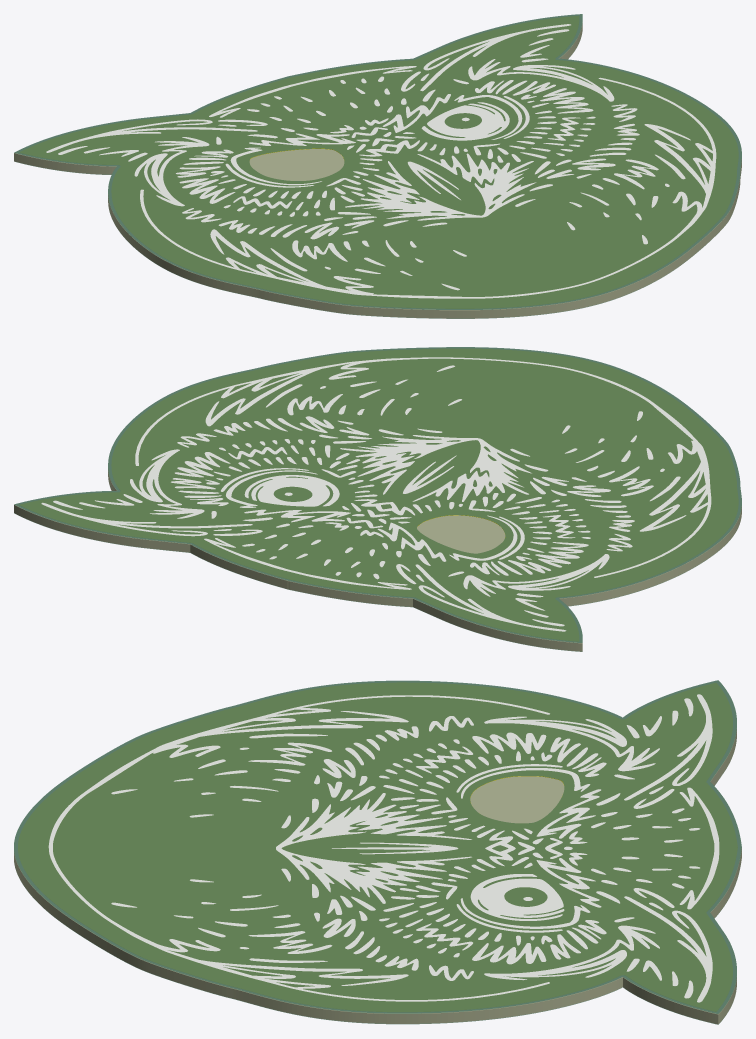
Rendered from badgerunner.glb.
3 renders of one model, top to bottom at view 1: azimuth 30°, elevation 25°; view 2: azimuth 150°, elevation 25°; view 3: azimuth 270°, elevation 25°, orthographic. The views are drawn at different scales.
Visible parts, largest first — view 1: =>[0:1:1:4], =>[0:1:1:2], =>[0:1:1:3], =>[0:1:1:6]; view 2: =>[0:1:1:4], =>[0:1:1:2], =>[0:1:1:3], =>[0:1:1:6]; view 3: =>[0:1:1:4], =>[0:1:1:2], =>[0:1:1:3], =>[0:1:1:6].
Part boxes in pixels (x1,y1,x2,y2): =>[0:1:1:4]: (14, 14, 741, 318); =>[0:1:1:2]: (20, 16, 737, 308); =>[0:1:1:3]: (46, 24, 716, 298); =>[0:1:1:6]: (14, 15, 741, 318); =>[0:1:1:4]: (14, 347, 741, 651); =>[0:1:1:2]: (20, 349, 737, 640); =>[0:1:1:3]: (41, 357, 711, 631); =>[0:1:1:6]: (14, 348, 741, 651); =>[0:1:1:4]: (14, 680, 741, 1024); =>[0:1:1:2]: (18, 683, 737, 1011); =>[0:1:1:3]: (48, 694, 719, 1002); =>[0:1:1:6]: (14, 681, 741, 1024).
Bounding box in the file's own units: 0.1084 × 0.00163 × 0.0999.
